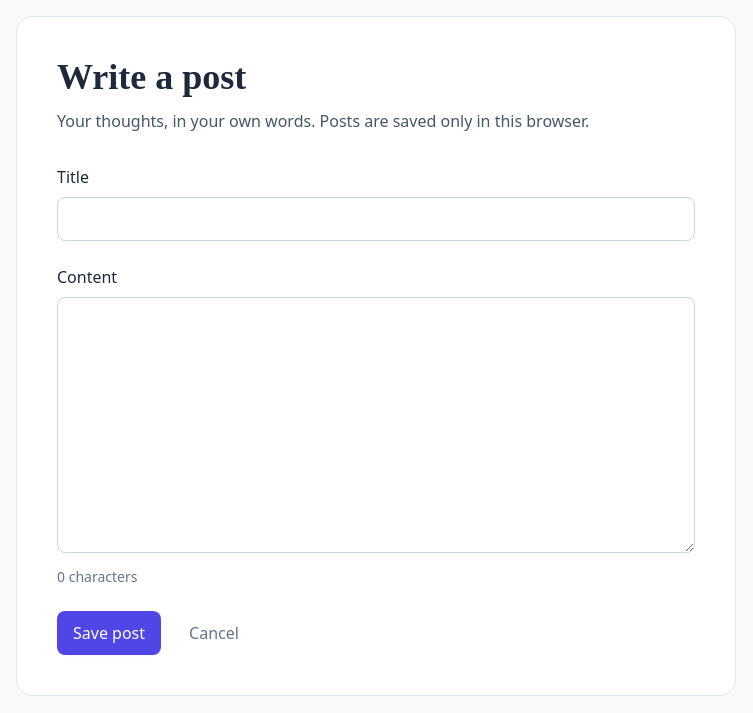
Test case: renders full-width required controls, textarea minimum height and a live draft counter
Expected: the heading reads "Write a post", [57,57,246,97]
Expected: the text "0 characters" is shown, [57,567,137,586]
Type "Hello" into the text box labelled "Content" at (376, 425), box [57,297,695,553]
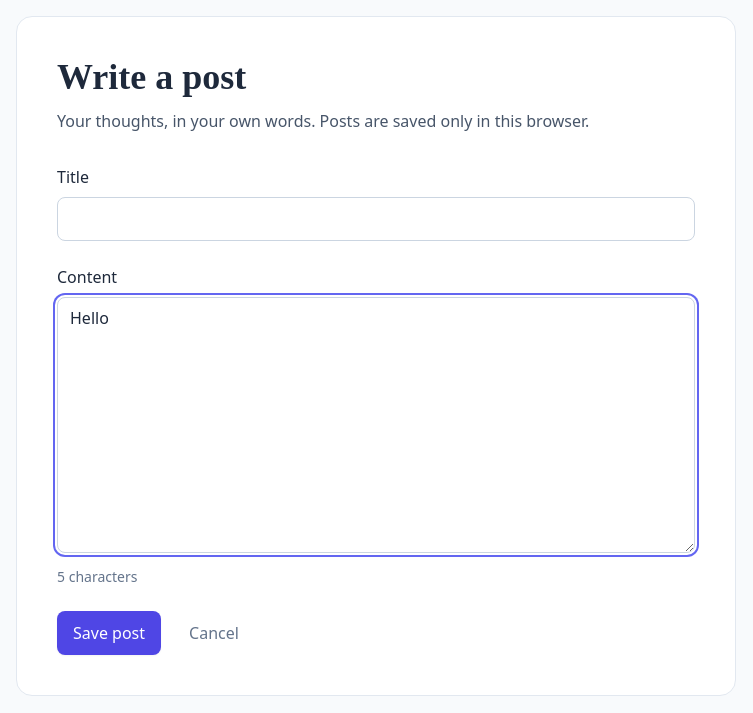
Expected: the text "5 characters" is shown, [57,567,137,586]
